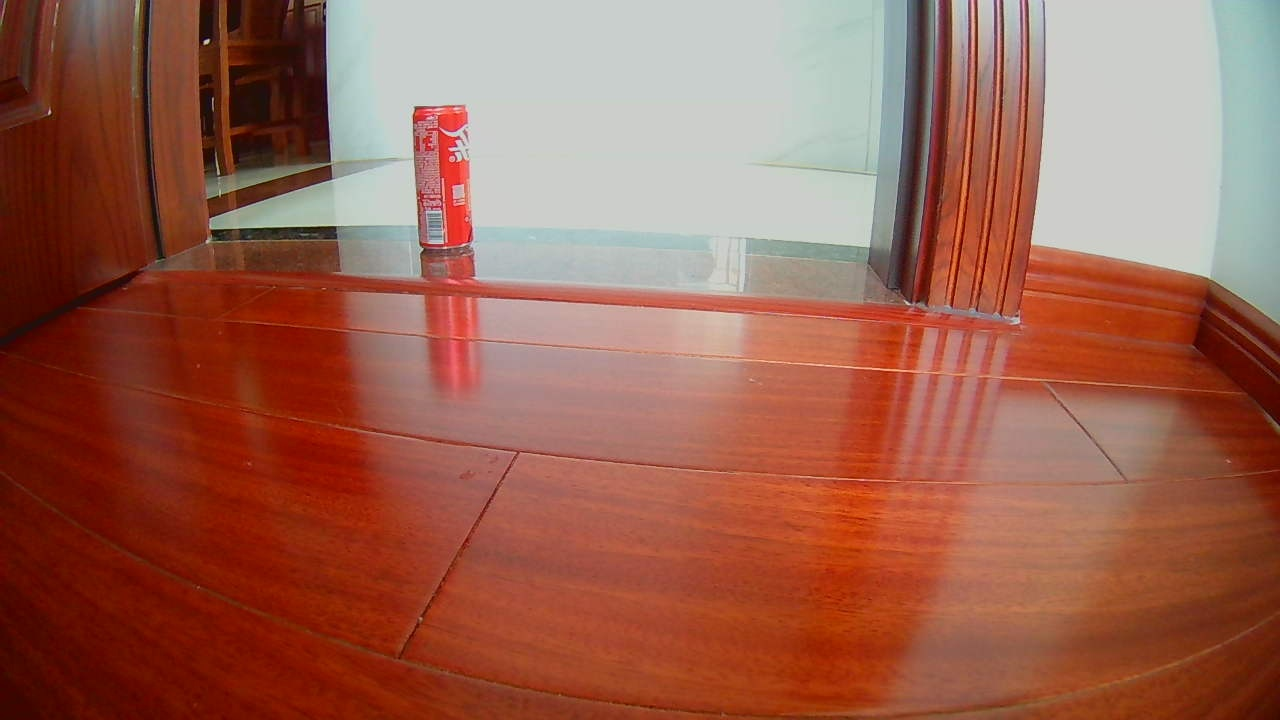cola: (409, 107, 473, 247)
